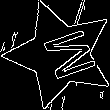M_W: (27, 24, 93, 84)
